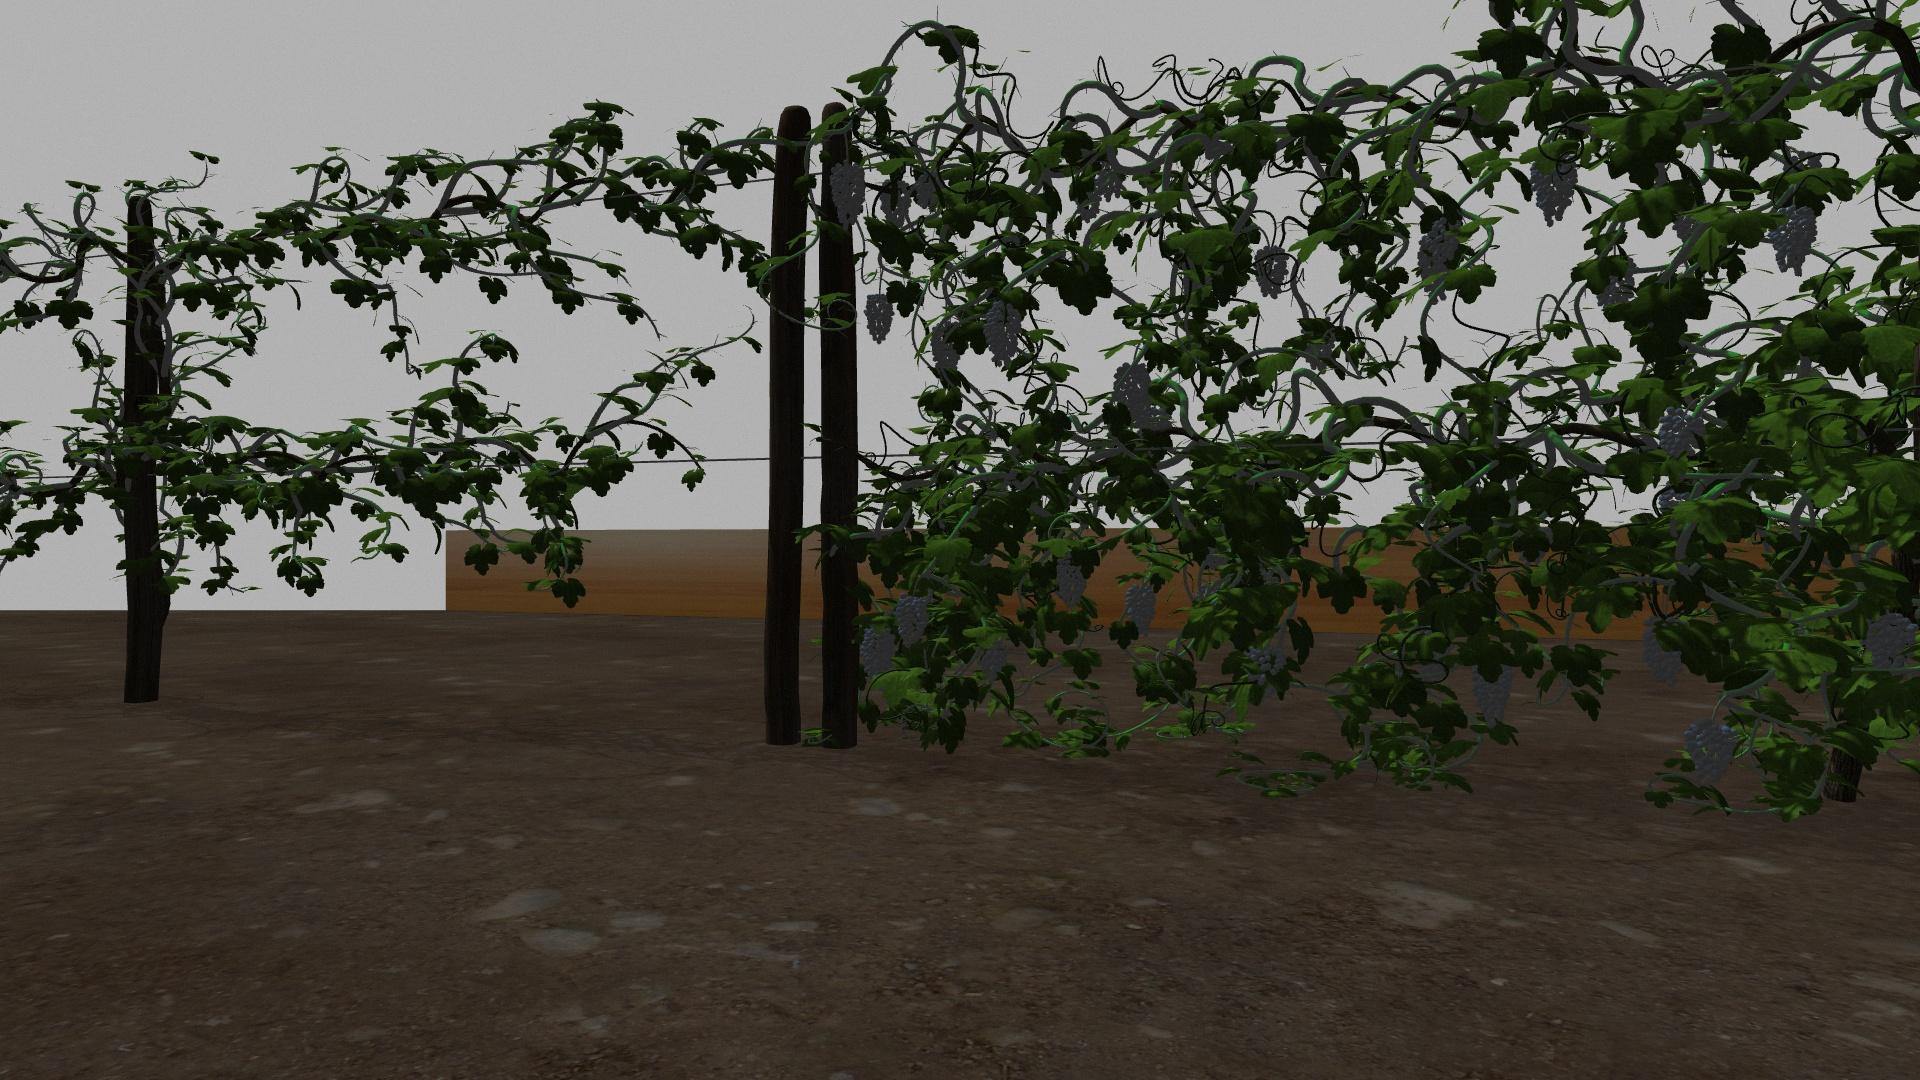grape: (1683, 716, 1737, 787), (1771, 204, 1818, 276), (1531, 158, 1578, 228), (1640, 616, 1684, 687), (1866, 615, 1913, 674), (1470, 663, 1514, 728), (829, 158, 866, 233), (982, 302, 1021, 365), (1655, 407, 1706, 454), (1251, 245, 1291, 298), (1415, 249, 1451, 305), (1114, 364, 1151, 417), (894, 595, 931, 647), (857, 629, 895, 679), (1055, 553, 1089, 607), (1124, 583, 1156, 637), (864, 291, 895, 344), (928, 324, 963, 372), (880, 179, 911, 229), (976, 637, 1009, 680), (1427, 222, 1460, 260), (1251, 644, 1288, 675), (915, 171, 945, 208), (1098, 162, 1124, 200)
